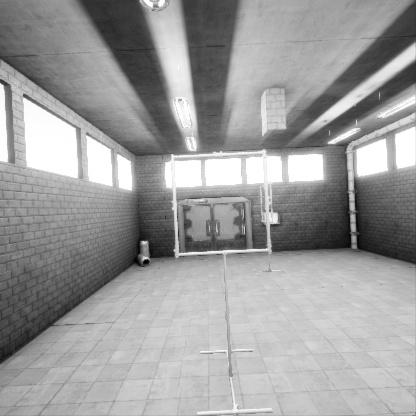gate: (175, 165, 276, 266), (260, 193, 273, 235)
